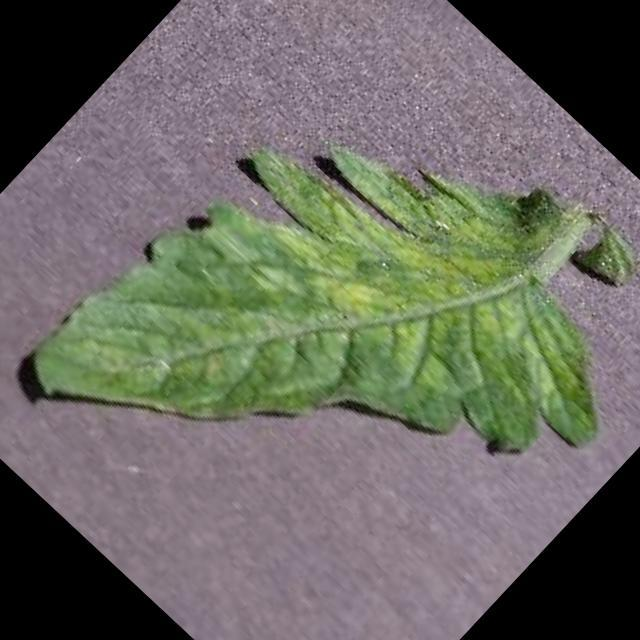Tomato mosaic virus leaf: (12, 48, 640, 640)
